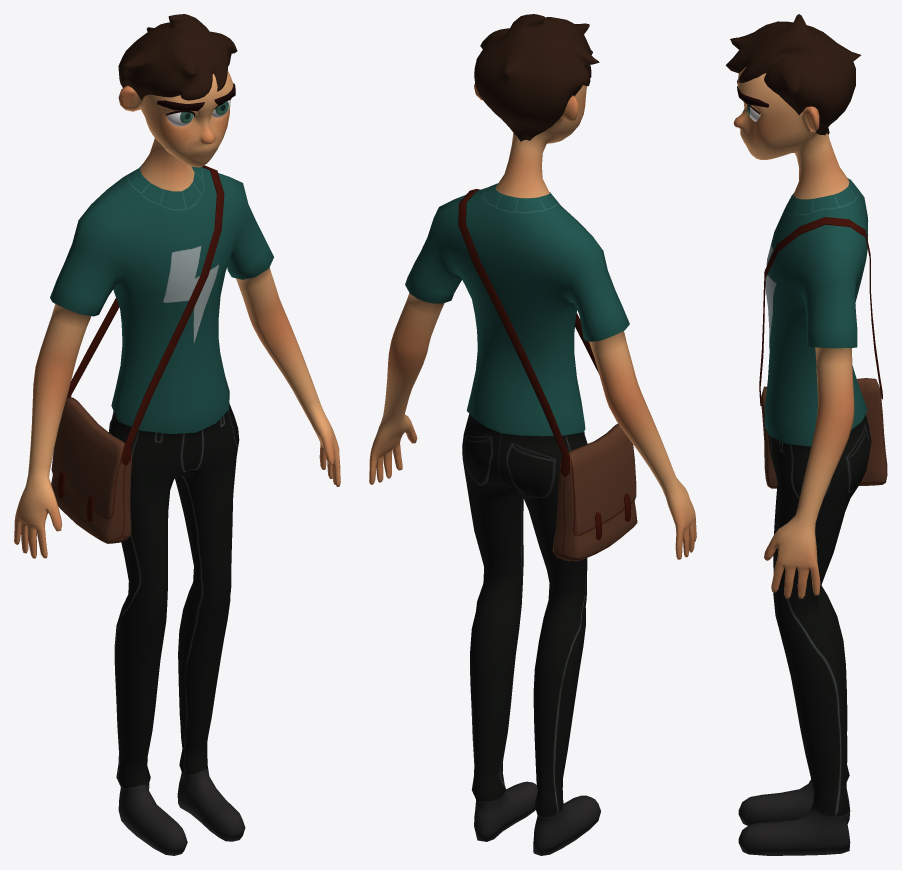
3 views of the same model, side by side, from view 1: azimuth 30°, elevation 25°; view 2: azimuth 150°, elevation 25°; view 3: azimuth 270°, elevation 25° (orthographic).
Visible parts, largest first — view 1: Body_low_5, BagBase_low_6, Hair_low_0, Head_low_4, BagHandle_low_7; view 2: Body_low_5, Hair_low_0, BagBase_low_6, Head_low_4, BagHandle_low_7; view 3: Body_low_5, Hair_low_0, Head_low_4, BagBase_low_6, BagHandle_low_7.
Boxes of the visible parts, x1,y1,x2,y2 form: Body_low_5: (14, 164, 340, 855); BagBase_low_6: (51, 397, 131, 543); Hair_low_0: (118, 14, 237, 100); Head_low_4: (118, 71, 233, 191); BagHandle_low_7: (66, 165, 224, 465); Body_low_5: (369, 183, 696, 855); Hair_low_0: (474, 14, 599, 141); BagBase_low_6: (552, 423, 637, 561); Head_low_4: (474, 83, 587, 198); BagHandle_low_7: (458, 189, 599, 477); Body_low_5: (738, 178, 871, 855); Hair_low_0: (725, 14, 860, 135); Head_low_4: (733, 66, 849, 199); BagBase_low_6: (761, 378, 887, 488); BagHandle_low_7: (759, 217, 882, 406).
Bounding box in the file's own units: 0.7297 × 1.82 × 0.3275.
5 materials, 5 textured.
